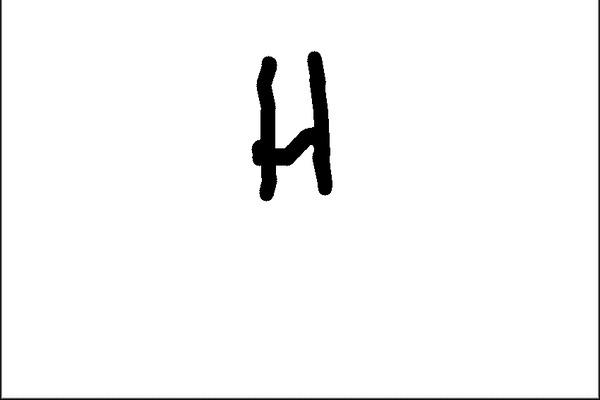H: (251, 43, 336, 209)
